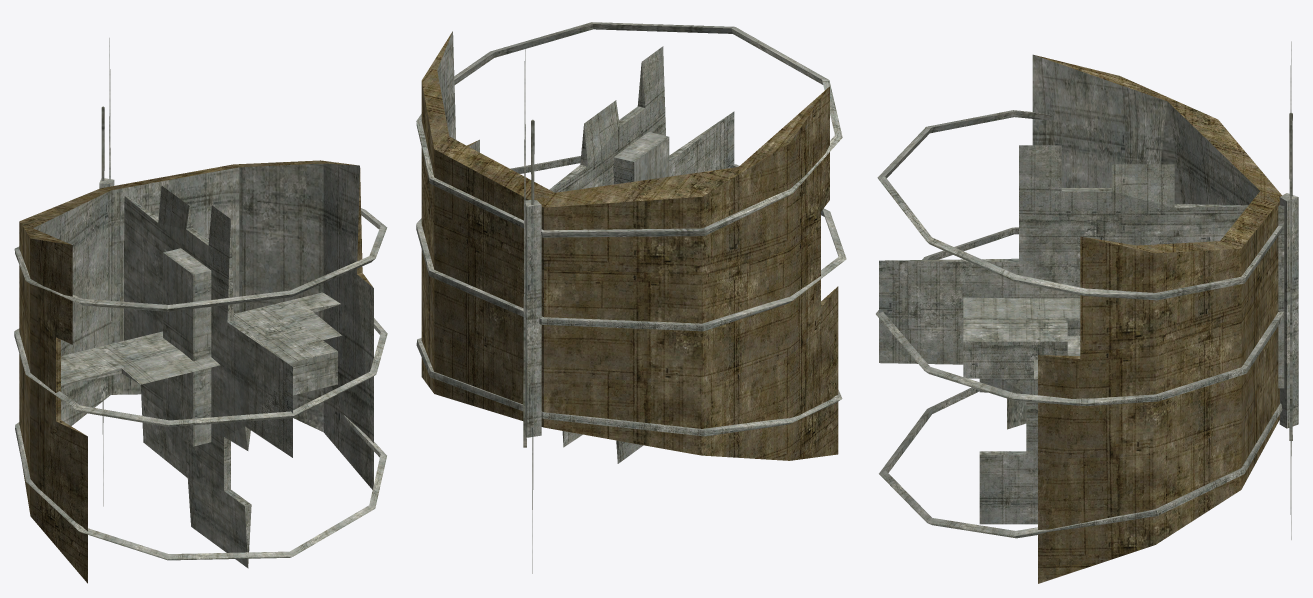
The model's file is thm_prp_junk_s3_l1.fbx.
The picture shows the model from 3 angles, left to right: view 1: azimuth 30°, elevation 25°; view 2: azimuth 150°, elevation 25°; view 3: azimuth 270°, elevation 25°; orthographic projection. The views are drawn at different scales.
Parts seen in each view (by area): view 1: mesh_node; view 2: mesh_node; view 3: mesh_node.
Boxes of the visible parts, bbox=[...] form: mesh_node: bbox=[14, 38, 387, 583]; mesh_node: bbox=[416, 22, 846, 573]; mesh_node: bbox=[876, 41, 1298, 583].
Bounding box in the file's own units: 6.03 × 8.85 × 6.07.
